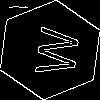W: (25, 25, 80, 77)
